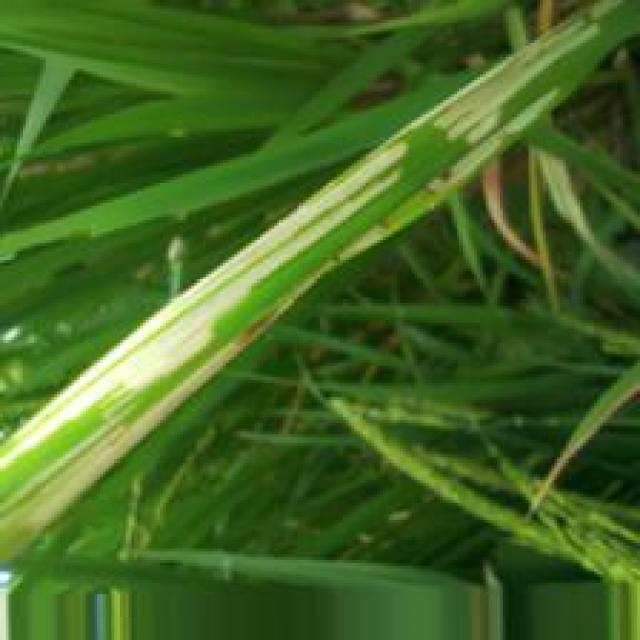Rice_Hispa: (0, 142, 408, 557), (416, 5, 601, 191)
